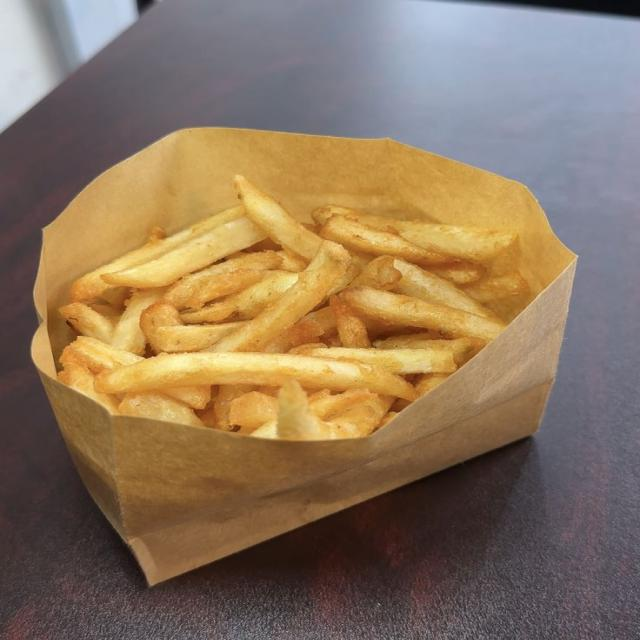potato fries: (60, 176, 528, 440), (71, 206, 244, 301), (95, 353, 415, 399), (213, 243, 349, 351), (101, 218, 265, 287), (313, 206, 516, 261), (341, 287, 504, 341), (234, 176, 321, 260), (164, 251, 284, 309), (320, 215, 455, 264), (182, 271, 299, 323), (393, 259, 493, 317), (299, 348, 455, 374), (111, 290, 163, 354), (60, 336, 143, 373), (119, 392, 202, 425), (154, 322, 243, 352), (330, 296, 371, 348), (60, 303, 113, 342), (229, 391, 278, 431), (464, 272, 529, 302)
